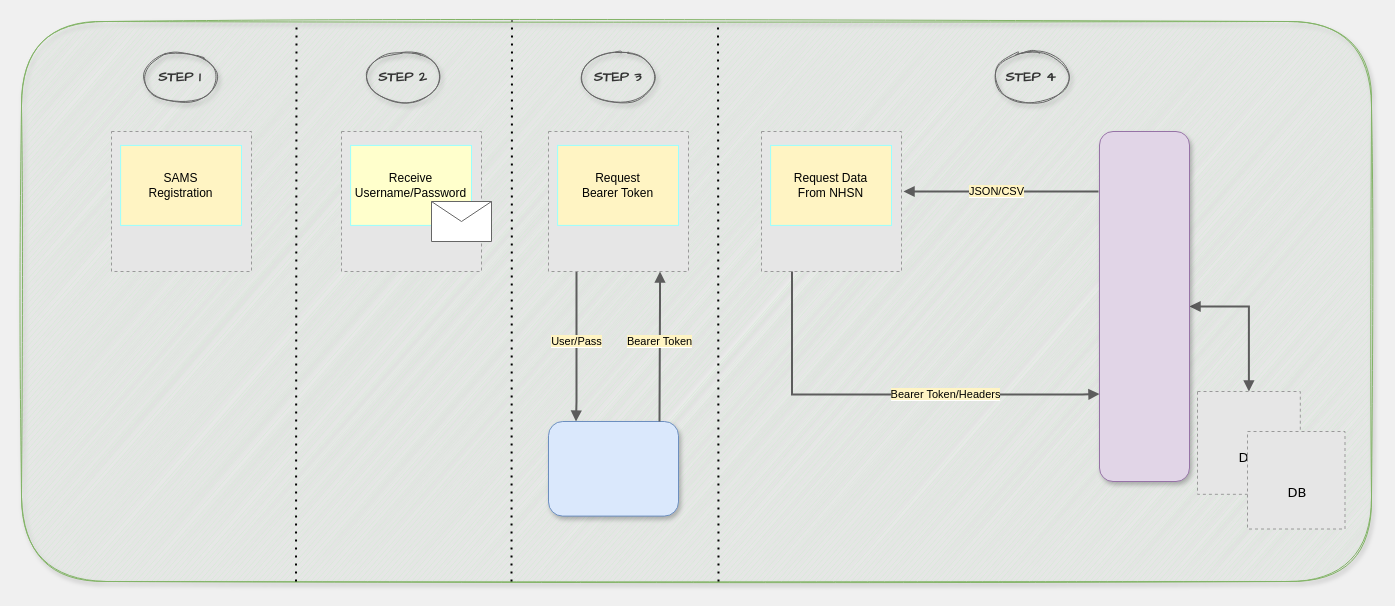
The diagram is 1395 pixels wide and 606 high, and some of its shapes have lost their labels. Grey dashed boxes stand in for pictures. The centre of each missing label's shape, as x and y in pixels:
"NSHN REST API" goes at (x=1145, y=307).
"SAMS Access Token URL" goes at (x=614, y=469).
